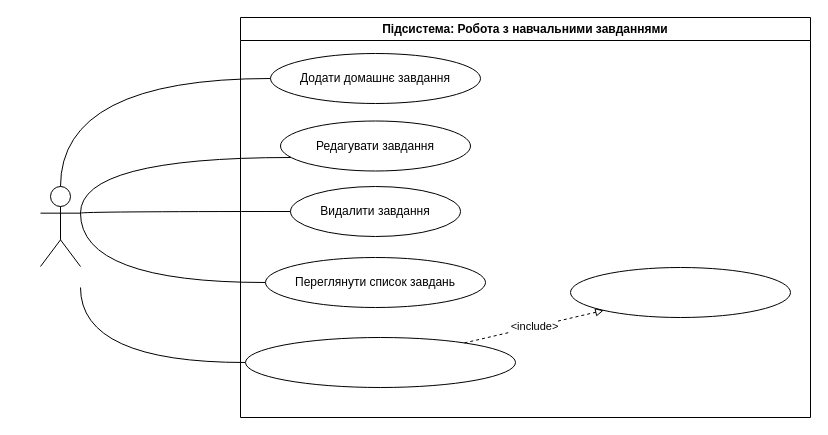
Some shapes in this 828 by 435 pixel diagram are drawn without their labels. Each missing label, with the centre of its shape:
"Переглянути виконані завдання" goes at [680,292].
"Позначити завдання як виконане" goes at [380,362].
"Учень / студент" goes at [60,226].
